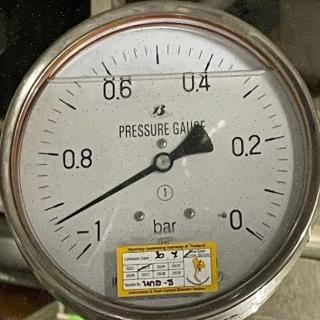gauge: (0, 0, 320, 320), (68, 216, 112, 268), (234, 218, 266, 255), (153, 151, 175, 173), (51, 215, 65, 229)
